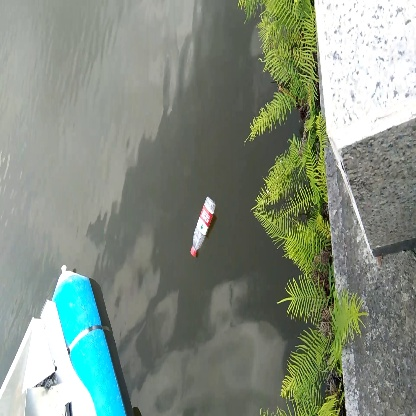bottle: (188, 196, 226, 260)
